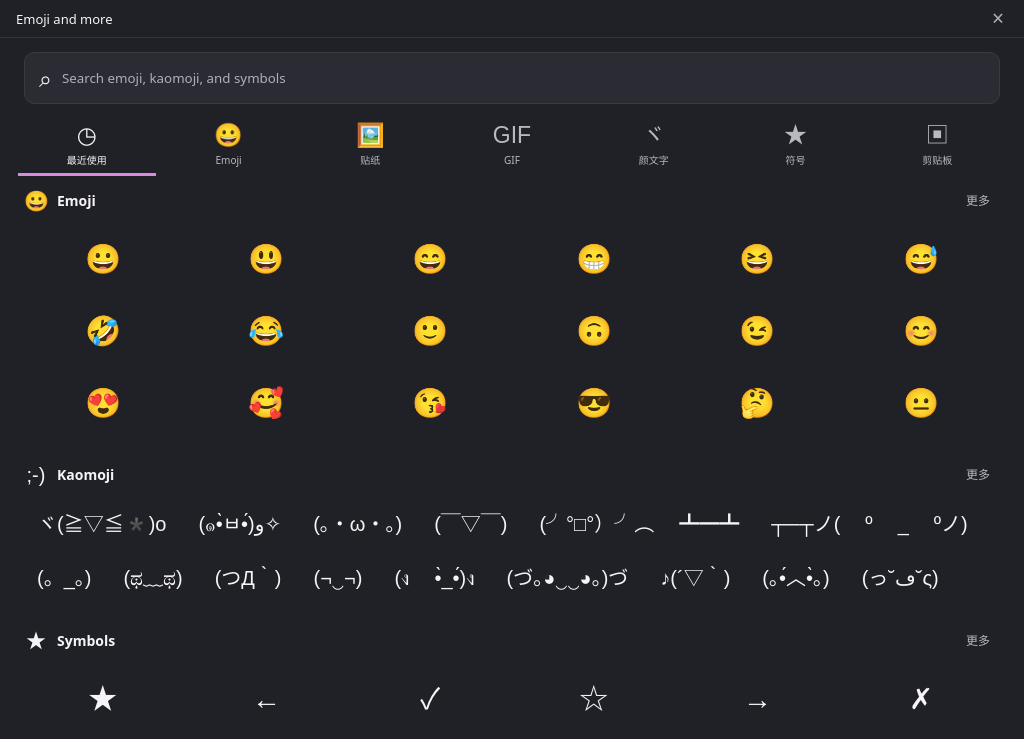
emoji panel paginates catalog items and resets on search
The image size is (1024, 739).
Click the button "😀 Emoji" at point(229, 144), box [160, 112, 297, 176]
(page scrolled)
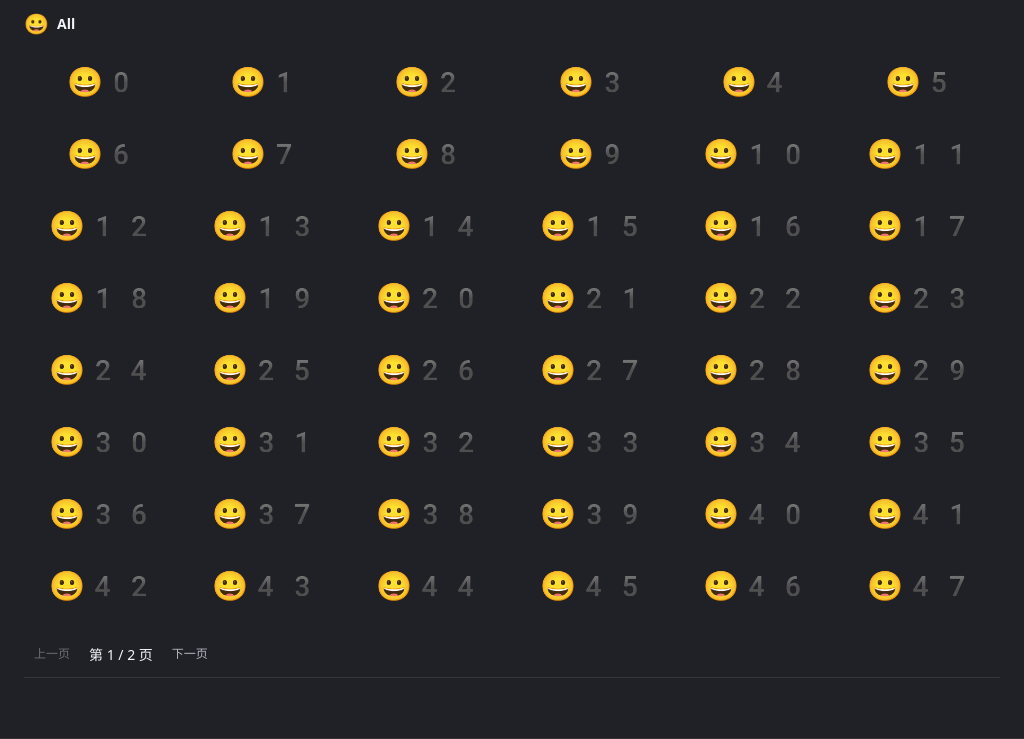
Now the text "第 1 / 2 页" is shown, box [89, 644, 153, 664]
Click the button "下一页" at point(190, 654), box [162, 641, 218, 667]
(page scrolled)
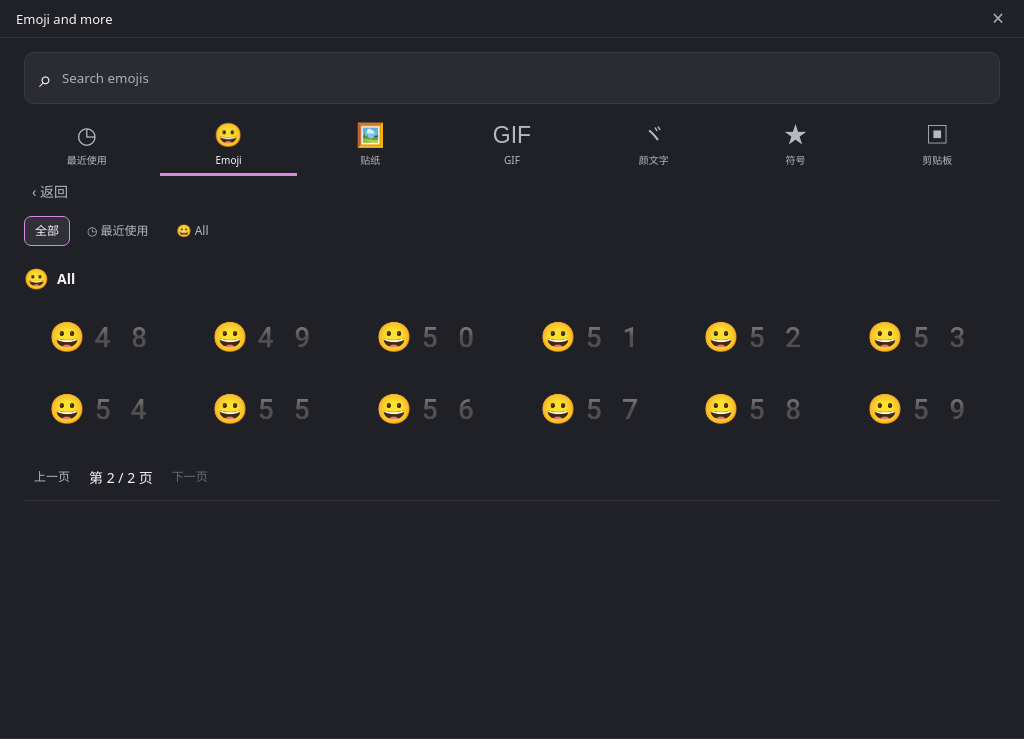
Now the text "第 2 / 2 页" is shown, box [89, 467, 153, 487]
Type "item0" into the field named "搜索" at point(522, 78), box [60, 68, 985, 88]
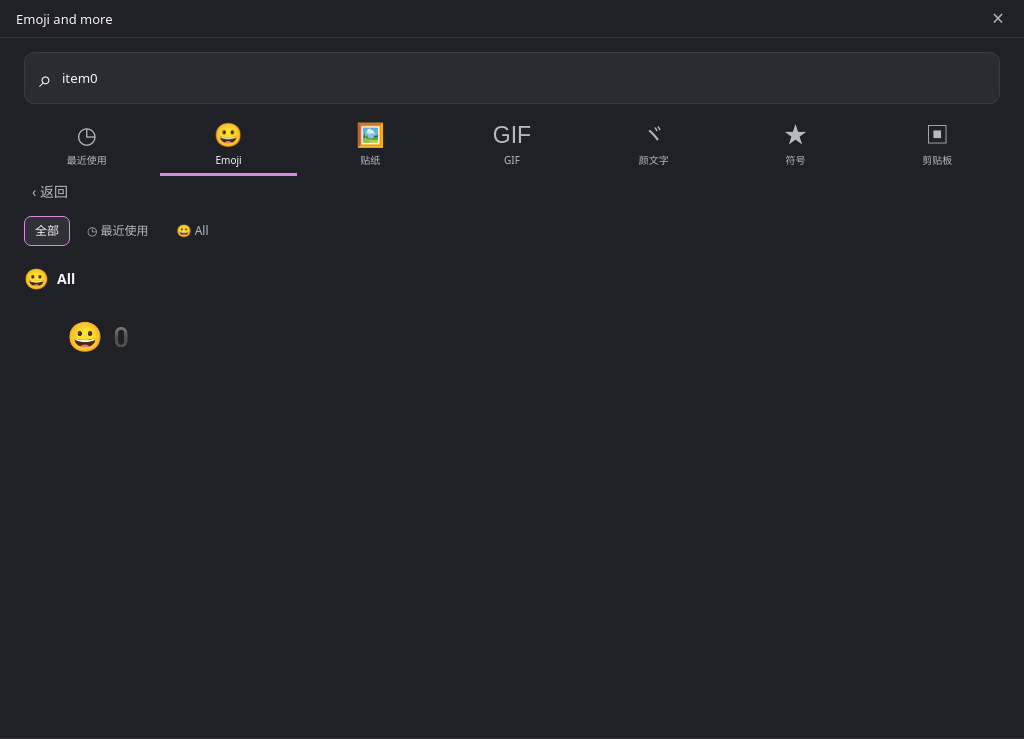
Now the text "第 2 / 2 页" is gone
